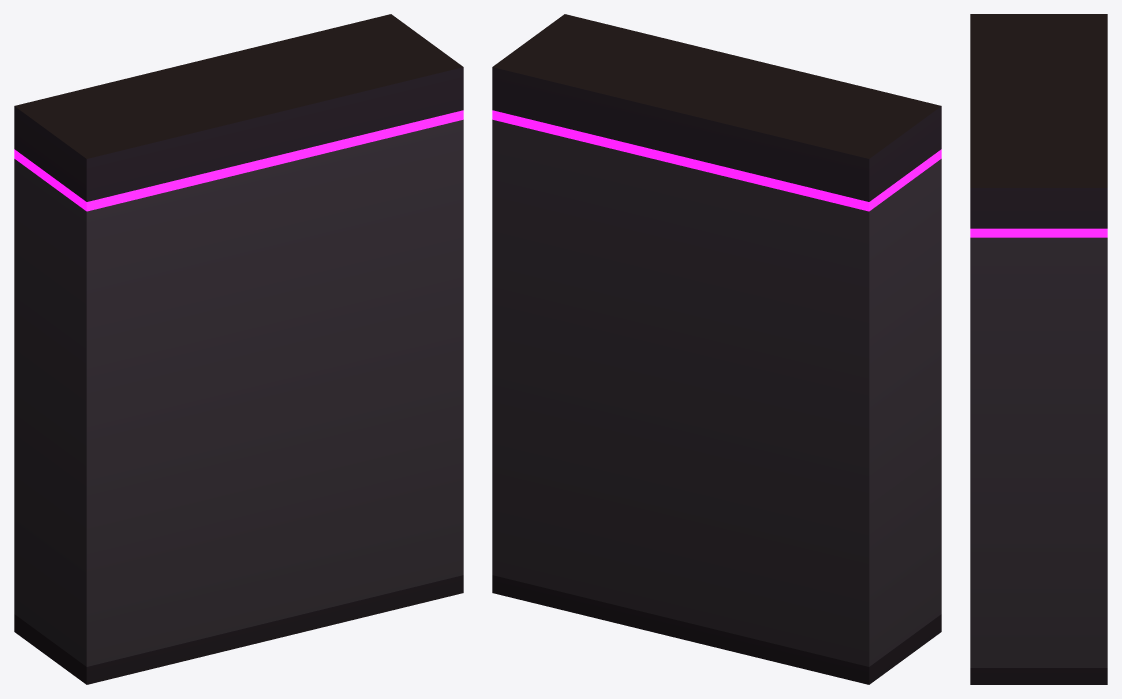
File: WallStraight1.fbx
3 views of the same model, side by side, from view 1: azimuth 30°, elevation 25°; view 2: azimuth 150°, elevation 25°; view 3: azimuth 270°, elevation 25° (orthographic). The views are drawn at different scales.
Parts seen in each view (by area): view 1: WallStraight1; view 2: WallStraight1; view 3: WallStraight1.
Part boxes in pixels (box(x1,y1,x2,y2)): WallStraight1: box(14, 14, 463, 684); WallStraight1: box(492, 14, 941, 684); WallStraight1: box(970, 14, 1107, 684).
Bounding box in the file's own units: 300 × 400 × 100.
